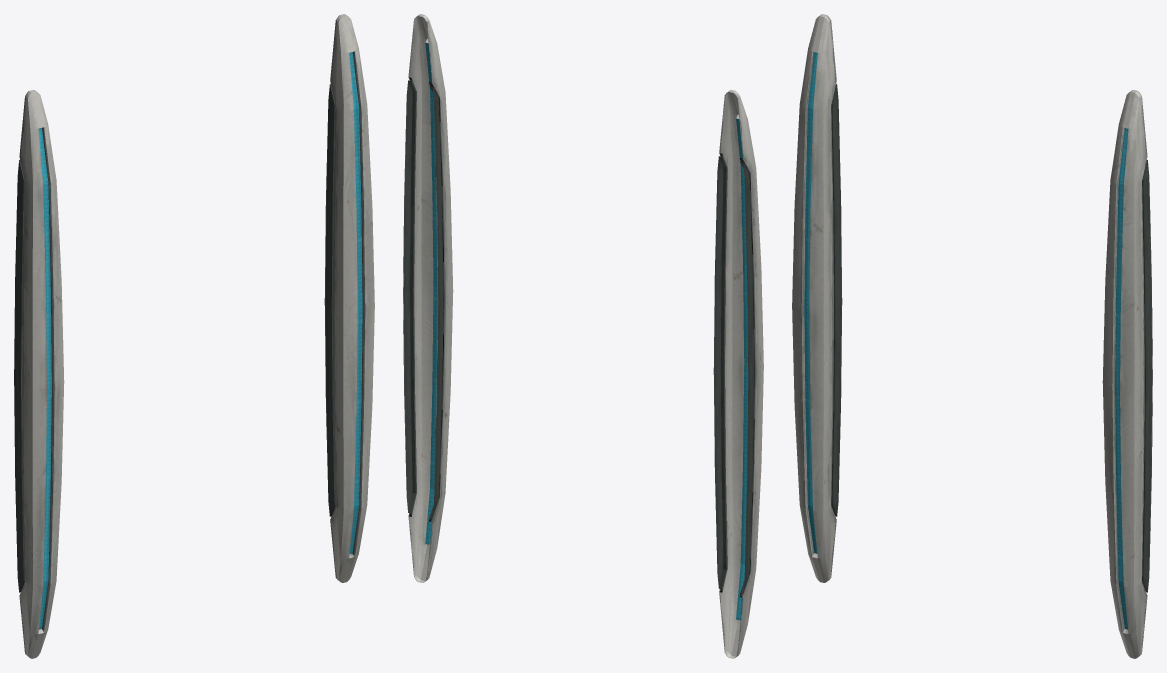
The model's file is Autoportal_frame.fbx.
3 renders of one model, left to right at view 1: azimuth 30°, elevation 25°; view 2: azimuth 150°, elevation 25°; view 3: azimuth 330°, elevation 25°, orthographic.
Parts seen in each view (by area): view 1: g0; view 2: g0; view 3: g0.
Part boxes in pixels (<box>): g0: <box>14,14,374,658</box>; g0: <box>403,14,763,658</box>; g0: <box>792,14,1152,658</box>.
Size of the model in its own units: 80.09 by 125 by 7.84.
1 material, 1 textured.
